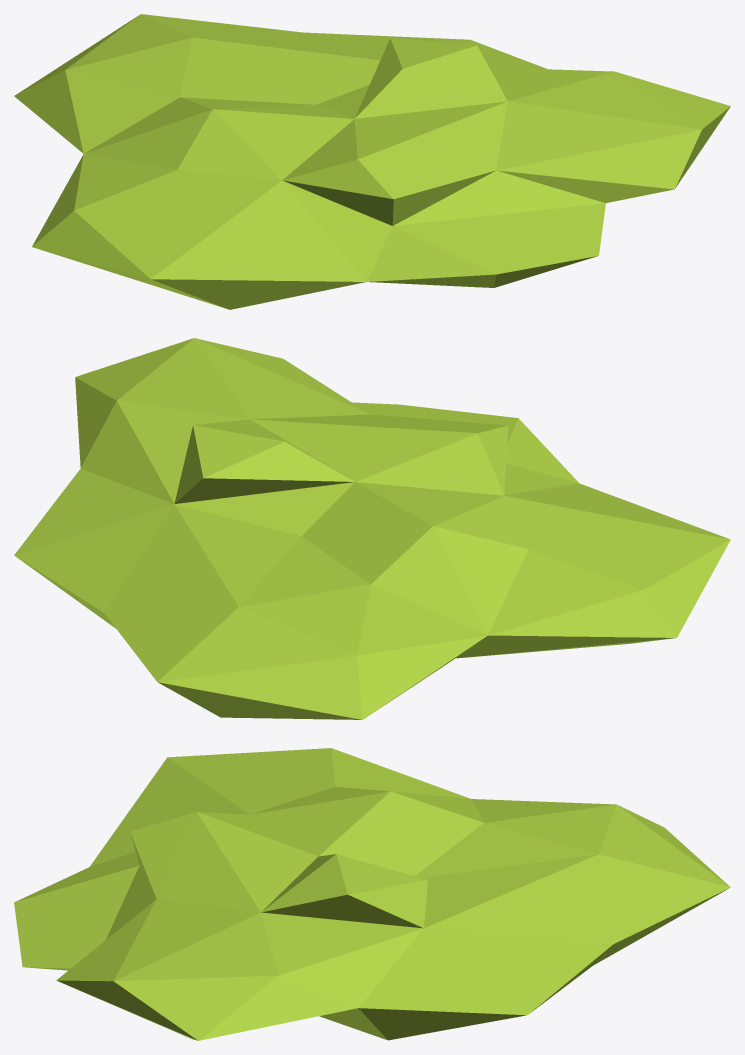
Rendered from TreeGroup2.fbx.
3 views of the same model, one above another, from view 1: azimuth 30°, elevation 25°; view 2: azimuth 150°, elevation 25°; view 3: azimuth 270°, elevation 25° (orthographic). The views are drawn at different scales.
Parts seen in each view (by area): view 1: trees_2; view 2: trees_2; view 3: trees_2.
Part boxes in pixels (<box>): trees_2: <box>14,14,730,309</box>; trees_2: <box>14,338,730,719</box>; trees_2: <box>14,748,730,1040</box>.
Bounding box in the file's own units: 2316 × 432 × 2202.
